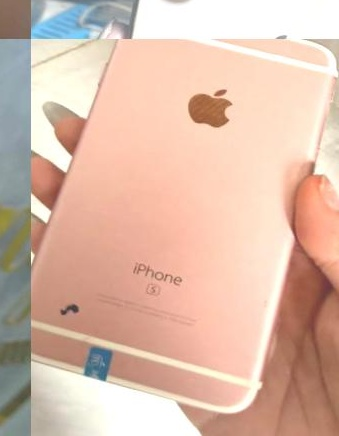scratch: (57, 299, 82, 319), (297, 151, 311, 178), (76, 332, 96, 348), (260, 296, 270, 310), (115, 45, 121, 52)
